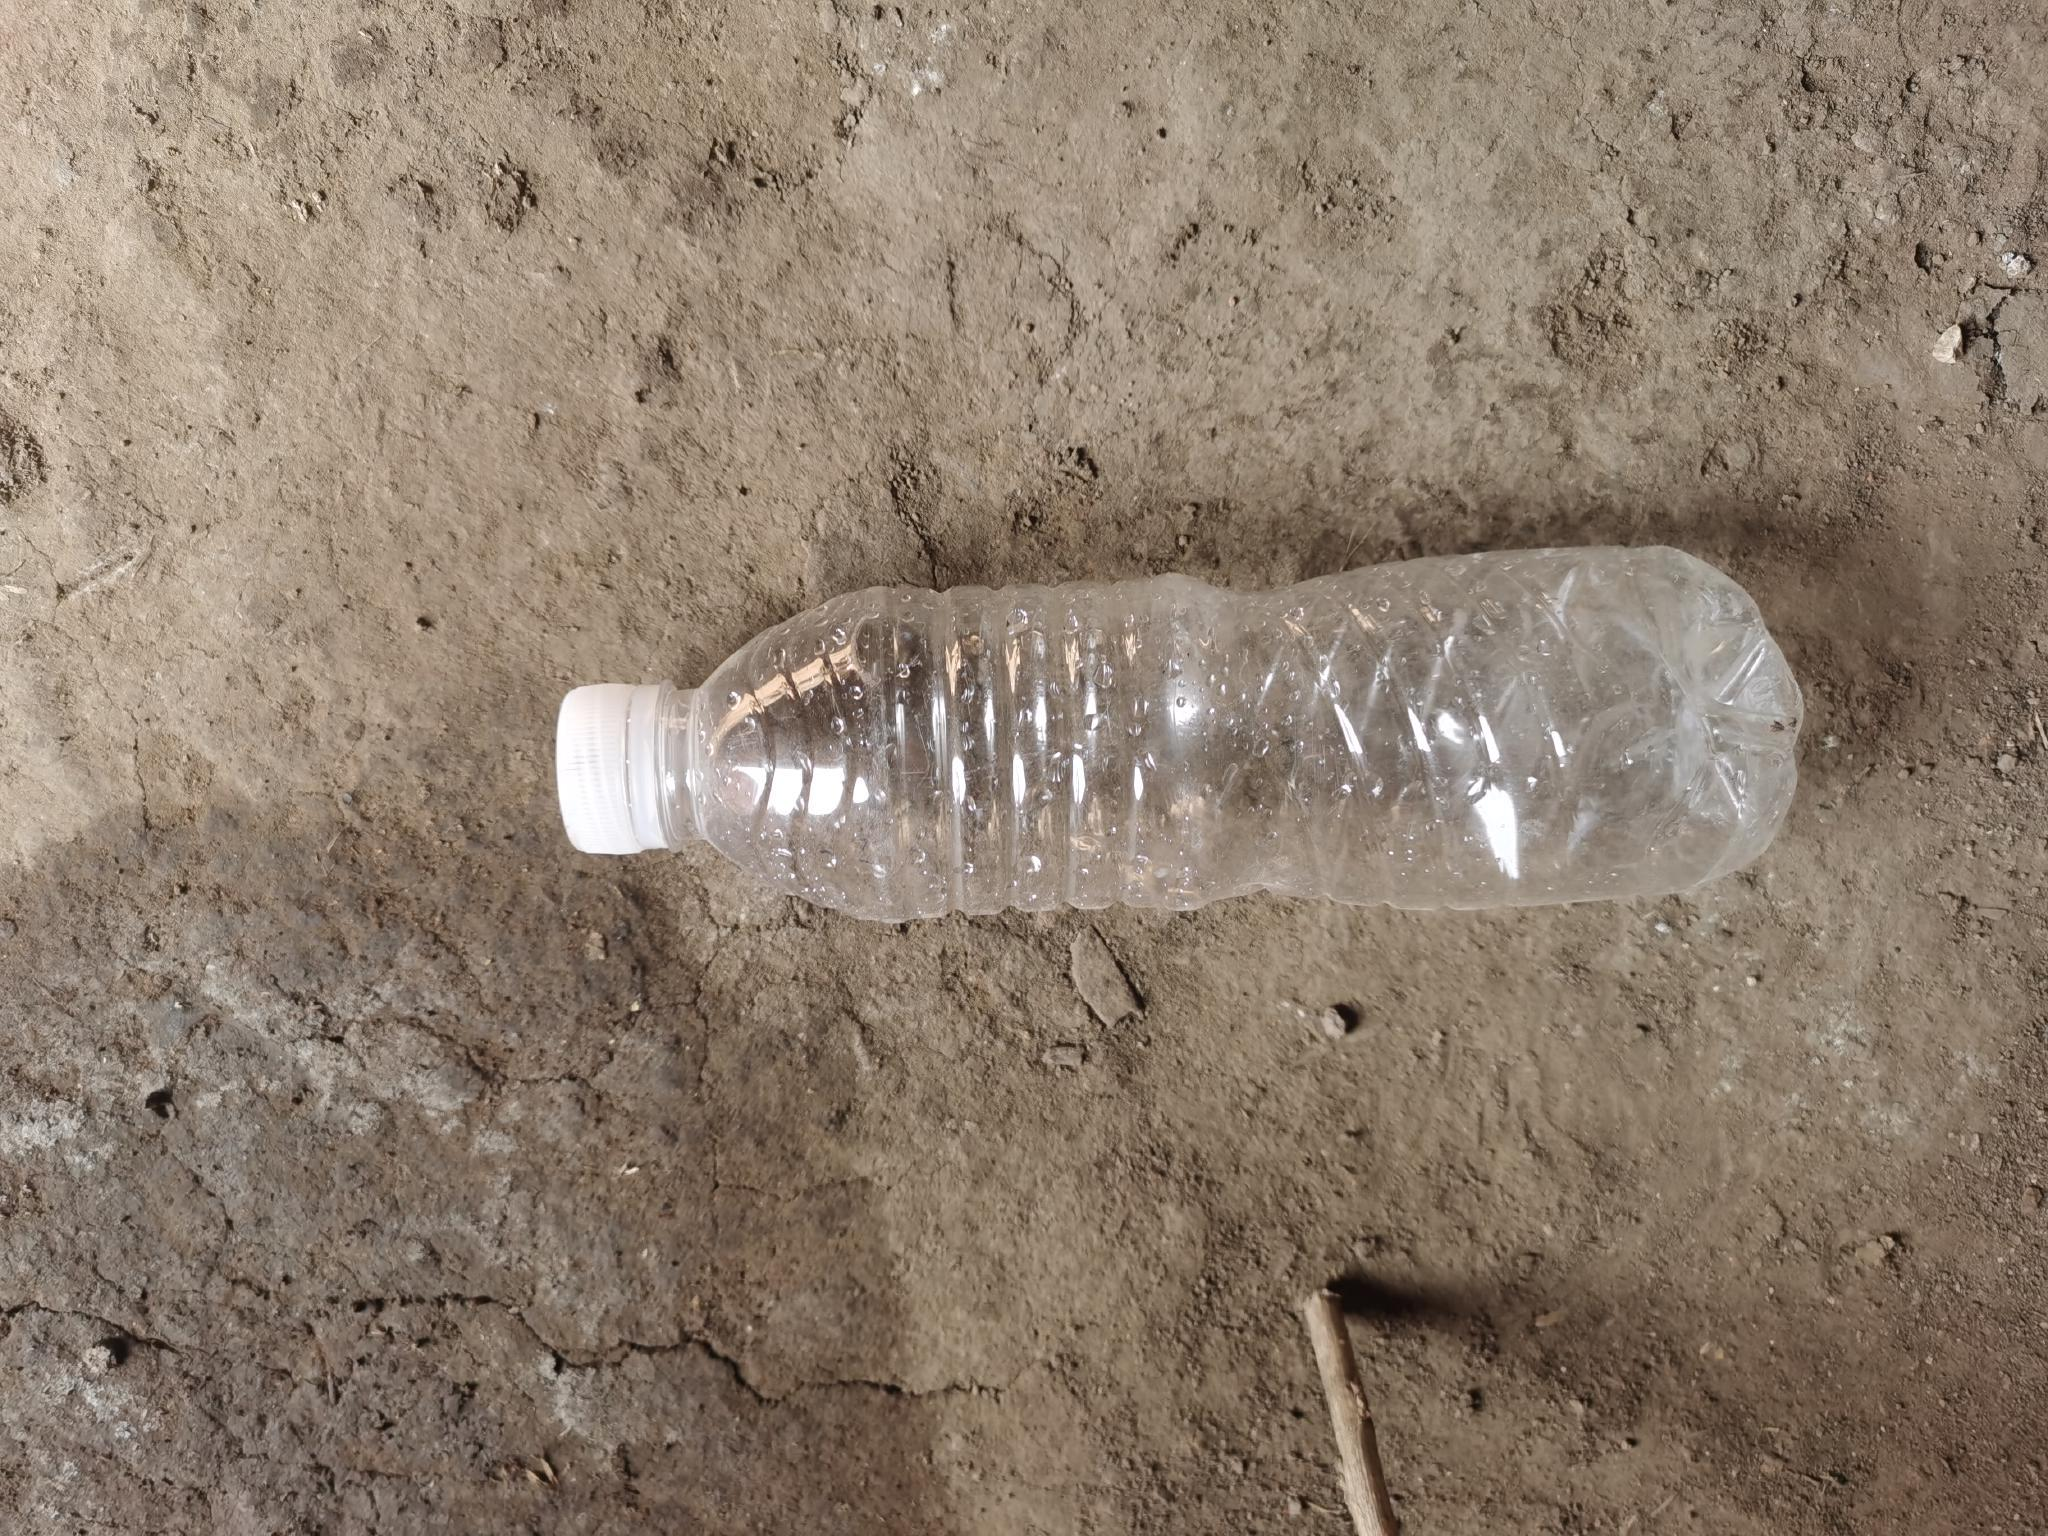plastic: (558, 565, 1801, 923)
